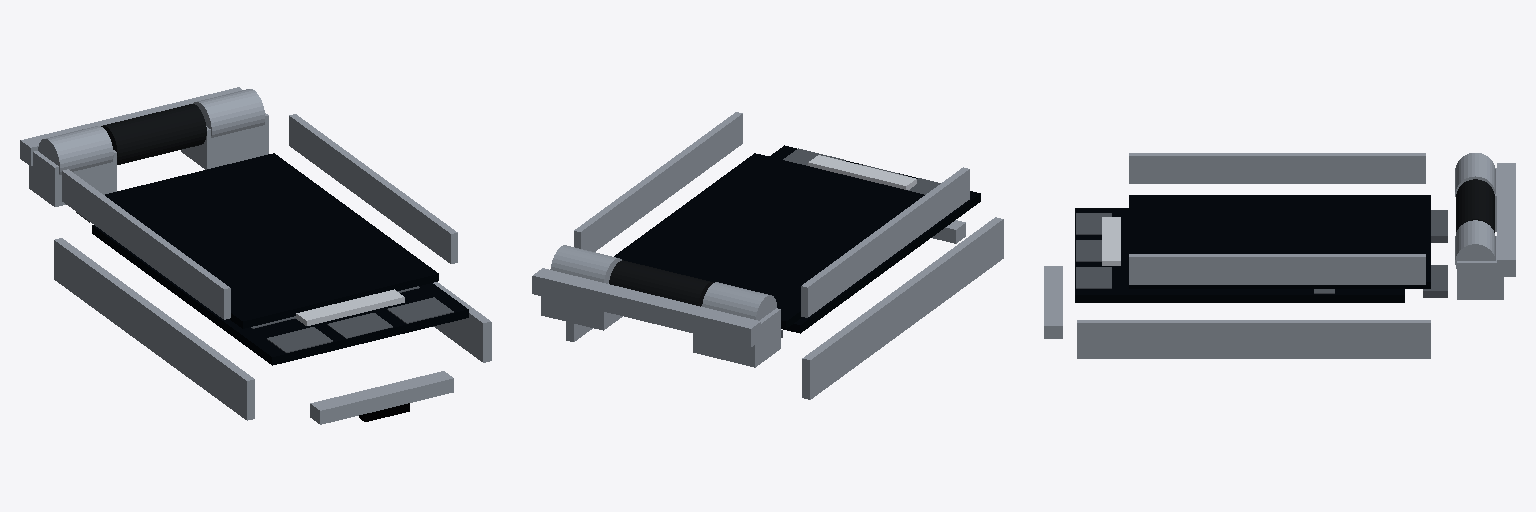
The robot description file, URDF, robot "flip_phone":
<robot name="flip_phone">
  <material name="body_black">
    <color rgba="0.1 0.11 0.12 1" />
  </material>
  <material name="side_metal">
    <color rgba="0.62 0.65 0.69 1" />
  </material>
  <material name="key_gray">
    <color rgba="0.36 0.38 0.41 1" />
  </material>
  <material name="dark_glass">
    <color rgba="0.08 0.11 0.14 0.58" />
  </material>
  <material name="display_black">
    <color rgba="0.03 0.05 0.07 1" />
  </material>
  <material name="accent_silver">
    <color rgba="0.8 0.82 0.85 1" />
  </material>
  <material name="lens_black">
    <color rgba="0.02 0.02 0.03 1" />
  </material>
  <link name="lower_body">
    <inertial>
      <origin xyz="0 0 0.00875" rpy="0 0 0" />
      <mass value="0.085" />
      <inertia ixx="6.74493e-05" ixy="0" ixz="0" iyy="2.35964e-05" iyz="0" izz="8.67071e-05" />
    </inertial>
    <visual name="lower_shell">
      <origin xyz="0 0 0.00875" rpy="0 0 0" />
      <geometry>
        <mesh filename="meshes/lower_body_shell.glb" />
      </geometry>
      <material name="body_black">
        <color rgba="0.1 0.11 0.12 1" />
      </material>
    </visual>
    <visual name="keypad_deck">
      <origin xyz="0 -0.007 0.0158" rpy="0 0 0" />
      <geometry>
        <box size="0.044 0.07 0.0018" />
      </geometry>
      <material name="display_black">
        <color rgba="0.03 0.05 0.07 1" />
      </material>
    </visual>
    <visual name="right_lower_trim">
      <origin xyz="0.0265 -0.004 0.0084" rpy="0 0 0" />
      <geometry>
        <box size="0.0018 0.075 0.0085" />
      </geometry>
      <material name="side_metal">
        <color rgba="0.62 0.65 0.69 1" />
      </material>
    </visual>
    <visual name="left_lower_trim">
      <origin xyz="-0.0265 -0.004 0.0084" rpy="0 0 0" />
      <geometry>
        <box size="0.0018 0.075 0.0085" />
      </geometry>
      <material name="side_metal">
        <color rgba="0.62 0.65 0.69 1" />
      </material>
    </visual>
    <visual name="front_lip">
      <origin xyz="0 -0.0465 0.0047" rpy="0 0 0" />
      <geometry>
        <box size="0.03 0.004 0.003" />
      </geometry>
      <material name="side_metal">
        <color rgba="0.62 0.65 0.69 1" />
      </material>
    </visual>
    <visual name="microphone_slot">
      <origin xyz="0 -0.0474 0.0023" rpy="0 0 0" />
      <geometry>
        <box size="0.01 0.0022 0.0018" />
      </geometry>
      <material name="lens_black">
        <color rgba="0.02 0.02 0.03 1" />
      </material>
    </visual>
    <visual name="nav_ring">
      <origin xyz="0 0.0215 0.016" rpy="0 0 0" />
      <geometry>
        <cylinder radius="0.011" length="0.0017" />
      </geometry>
      <material name="key_gray">
        <color rgba="0.36 0.38 0.41 1" />
      </material>
    </visual>
    <visual name="nav_ring_inner">
      <origin xyz="0 0.0215 0.0161" rpy="0 0 0" />
      <geometry>
        <cylinder radius="0.0072" length="0.0019" />
      </geometry>
      <material name="display_black">
        <color rgba="0.03 0.05 0.07 1" />
      </material>
    </visual>
    <visual name="nav_center">
      <origin xyz="0 0.0215 0.0162" rpy="0 0 0" />
      <geometry>
        <cylinder radius="0.0038" length="0.0017" />
      </geometry>
      <material name="accent_silver">
        <color rgba="0.8 0.82 0.85 1" />
      </material>
    </visual>
    <visual name="softkey_left">
      <origin xyz="-0.0138 0.0345 0.0161" rpy="0 0 0" />
      <geometry>
        <box size="0.013 0.0052 0.0016" />
      </geometry>
      <material name="key_gray">
        <color rgba="0.36 0.38 0.41 1" />
      </material>
    </visual>
    <visual name="softkey_right">
      <origin xyz="0.0138 0.0345 0.0161" rpy="0 0 0" />
      <geometry>
        <box size="0.013 0.0052 0.0016" />
      </geometry>
      <material name="key_gray">
        <color rgba="0.36 0.38 0.41 1" />
      </material>
    </visual>
    <visual name="send_key">
      <origin xyz="-0.0168 0.011 0.016" rpy="0 0 0" />
      <geometry>
        <box size="0.009 0.0045 0.0016" />
      </geometry>
      <material name="key_gray">
        <color rgba="0.36 0.38 0.41 1" />
      </material>
    </visual>
    <visual name="end_key">
      <origin xyz="0.0168 0.011 0.016" rpy="0 0 0" />
      <geometry>
        <box size="0.009 0.0045 0.0016" />
      </geometry>
      <material name="key_gray">
        <color rgba="0.36 0.38 0.41 1" />
      </material>
    </visual>
    <visual name="key_0_0">
      <origin xyz="-0.0135 0.001 0.01605" rpy="0 0 0" />
      <geometry>
        <box size="0.0106 0.0076 0.0015" />
      </geometry>
      <material name="key_gray">
        <color rgba="0.36 0.38 0.41 1" />
      </material>
    </visual>
    <visual name="key_0_1">
      <origin xyz="0 0.001 0.01615" rpy="0 0 0" />
      <geometry>
        <box size="0.0106 0.0076 0.0015" />
      </geometry>
      <material name="key_gray">
        <color rgba="0.36 0.38 0.41 1" />
      </material>
    </visual>
    <visual name="key_0_2">
      <origin xyz="0.0135 0.001 0.01605" rpy="0 0 0" />
      <geometry>
        <box size="0.0106 0.0076 0.0015" />
      </geometry>
      <material name="key_gray">
        <color rgba="0.36 0.38 0.41 1" />
      </material>
    </visual>
    <visual name="key_1_0">
      <origin xyz="-0.0135 -0.012 0.01615" rpy="0 0 0" />
      <geometry>
        <box size="0.0106 0.0076 0.0015" />
      </geometry>
      <material name="key_gray">
        <color rgba="0.36 0.38 0.41 1" />
      </material>
    </visual>
    <visual name="key_1_1">
      <origin xyz="0 -0.012 0.01605" rpy="0 0 0" />
      <geometry>
        <box size="0.0106 0.0076 0.0015" />
      </geometry>
      <material name="key_gray">
        <color rgba="0.36 0.38 0.41 1" />
      </material>
    </visual>
    <visual name="key_1_2">
      <origin xyz="0.0135 -0.012 0.01615" rpy="0 0 0" />
      <geometry>
        <box size="0.0106 0.0076 0.0015" />
      </geometry>
      <material name="key_gray">
        <color rgba="0.36 0.38 0.41 1" />
      </material>
    </visual>
    <visual name="key_2_0">
      <origin xyz="-0.0135 -0.025 0.01605" rpy="0 0 0" />
      <geometry>
        <box size="0.0106 0.0076 0.0015" />
      </geometry>
      <material name="key_gray">
        <color rgba="0.36 0.38 0.41 1" />
      </material>
    </visual>
    <visual name="key_2_1">
      <origin xyz="0 -0.025 0.01615" rpy="0 0 0" />
      <geometry>
        <box size="0.0106 0.0076 0.0015" />
      </geometry>
      <material name="key_gray">
        <color rgba="0.36 0.38 0.41 1" />
      </material>
    </visual>
    <visual name="key_2_2">
      <origin xyz="0.0135 -0.025 0.01605" rpy="0 0 0" />
      <geometry>
        <box size="0.0106 0.0076 0.0015" />
      </geometry>
      <material name="key_gray">
        <color rgba="0.36 0.38 0.41 1" />
      </material>
    </visual>
    <visual name="key_3_0">
      <origin xyz="-0.0135 -0.038 0.01615" rpy="0 0 0" />
      <geometry>
        <box size="0.0106 0.0076 0.0015" />
      </geometry>
      <material name="key_gray">
        <color rgba="0.36 0.38 0.41 1" />
      </material>
    </visual>
    <visual name="key_3_1">
      <origin xyz="0 -0.038 0.01605" rpy="0 0 0" />
      <geometry>
        <box size="0.0106 0.0076 0.0015" />
      </geometry>
      <material name="key_gray">
        <color rgba="0.36 0.38 0.41 1" />
      </material>
    </visual>
    <visual name="key_3_2">
      <origin xyz="0.0135 -0.038 0.01615" rpy="0 0 0" />
      <geometry>
        <box size="0.0106 0.0076 0.0015" />
      </geometry>
      <material name="key_gray">
        <color rgba="0.36 0.38 0.41 1" />
      </material>
    </visual>
    <collision name="lower_body__lower_shell__hull_001">
      <origin xyz="0 0 0.00875" rpy="0 0 0" />
      <geometry>
        <mesh filename="meshes/collision/cache/7e7f34d3edd90ef1a53e088b__hull_001.obj" />
      </geometry>
    </collision>
    <collision name="lower_body__keypad_deck">
      <origin xyz="0 -0.007 0.0158" rpy="0 0 0" />
      <geometry>
        <box size="0.044 0.07 0.0018" />
      </geometry>
    </collision>
    <collision name="lower_body__right_lower_trim">
      <origin xyz="0.0265 -0.004 0.0084" rpy="0 0 0" />
      <geometry>
        <box size="0.0018 0.075 0.0085" />
      </geometry>
    </collision>
    <collision name="lower_body__left_lower_trim">
      <origin xyz="-0.0265 -0.004 0.0084" rpy="0 0 0" />
      <geometry>
        <box size="0.0018 0.075 0.0085" />
      </geometry>
    </collision>
    <collision name="lower_body__front_lip">
      <origin xyz="0 -0.0465 0.0047" rpy="0 0 0" />
      <geometry>
        <box size="0.03 0.004 0.003" />
      </geometry>
    </collision>
    <collision name="lower_body__microphone_slot">
      <origin xyz="0 -0.0474 0.0023" rpy="0 0 0" />
      <geometry>
        <box size="0.01 0.0022 0.0018" />
      </geometry>
    </collision>
    <collision name="lower_body__nav_ring">
      <origin xyz="0 0.0215 0.016" rpy="0 0 0" />
      <geometry>
        <cylinder radius="0.011" length="0.0017" />
      </geometry>
    </collision>
    <collision name="lower_body__nav_ring_inner">
      <origin xyz="0 0.0215 0.0161" rpy="0 0 0" />
      <geometry>
        <cylinder radius="0.0072" length="0.0019" />
      </geometry>
    </collision>
    <collision name="lower_body__nav_center">
      <origin xyz="0 0.0215 0.0162" rpy="0 0 0" />
      <geometry>
        <cylinder radius="0.0038" length="0.0017" />
      </geometry>
    </collision>
    <collision name="lower_body__softkey_left">
      <origin xyz="-0.0138 0.0345 0.0161" rpy="0 0 0" />
      <geometry>
        <box size="0.013 0.0052 0.0016" />
      </geometry>
    </collision>
    <collision name="lower_body__softkey_right">
      <origin xyz="0.0138 0.0345 0.0161" rpy="0 0 0" />
      <geometry>
        <box size="0.013 0.0052 0.0016" />
      </geometry>
    </collision>
    <collision name="lower_body__send_key">
      <origin xyz="-0.0168 0.011 0.016" rpy="0 0 0" />
      <geometry>
        <box size="0.009 0.0045 0.0016" />
      </geometry>
    </collision>
    <collision name="lower_body__end_key">
      <origin xyz="0.0168 0.011 0.016" rpy="0 0 0" />
      <geometry>
        <box size="0.009 0.0045 0.0016" />
      </geometry>
    </collision>
    <collision name="lower_body__key_0_0">
      <origin xyz="-0.0135 0.001 0.01605" rpy="0 0 0" />
      <geometry>
        <box size="0.0106 0.0076 0.0015" />
      </geometry>
    </collision>
    <collision name="lower_body__key_0_1">
      <origin xyz="0 0.001 0.01615" rpy="0 0 0" />
      <geometry>
        <box size="0.0106 0.0076 0.0015" />
      </geometry>
    </collision>
    <collision name="lower_body__key_0_2">
      <origin xyz="0.0135 0.001 0.01605" rpy="0 0 0" />
      <geometry>
        <box size="0.0106 0.0076 0.0015" />
      </geometry>
    </collision>
    <collision name="lower_body__key_1_0">
      <origin xyz="-0.0135 -0.012 0.01615" rpy="0 0 0" />
      <geometry>
        <box size="0.0106 0.0076 0.0015" />
      </geometry>
    </collision>
    <collision name="lower_body__key_1_1">
      <origin xyz="0 -0.012 0.01605" rpy="0 0 0" />
      <geometry>
        <box size="0.0106 0.0076 0.0015" />
      </geometry>
    </collision>
    <collision name="lower_body__key_1_2">
      <origin xyz="0.0135 -0.012 0.01615" rpy="0 0 0" />
      <geometry>
        <box size="0.0106 0.0076 0.0015" />
      </geometry>
    </collision>
    <collision name="lower_body__key_2_0">
      <origin xyz="-0.0135 -0.025 0.01605" rpy="0 0 0" />
      <geometry>
        <box size="0.0106 0.0076 0.0015" />
      </geometry>
    </collision>
    <collision name="lower_body__key_2_1">
      <origin xyz="0 -0.025 0.01615" rpy="0 0 0" />
      <geometry>
        <box size="0.0106 0.0076 0.0015" />
      </geometry>
    </collision>
    <collision name="lower_body__key_2_2">
      <origin xyz="0.0135 -0.025 0.01605" rpy="0 0 0" />
      <geometry>
        <box size="0.0106 0.0076 0.0015" />
      </geometry>
    </collision>
    <collision name="lower_body__key_3_0">
      <origin xyz="-0.0135 -0.038 0.01615" rpy="0 0 0" />
      <geometry>
        <box size="0.0106 0.0076 0.0015" />
      </geometry>
    </collision>
    <collision name="lower_body__key_3_1">
      <origin xyz="0 -0.038 0.01605" rpy="0 0 0" />
      <geometry>
        <box size="0.0106 0.0076 0.0015" />
      </geometry>
    </collision>
    <collision name="lower_body__key_3_2">
      <origin xyz="0.0135 -0.038 0.01615" rpy="0 0 0" />
      <geometry>
        <box size="0.0106 0.0076 0.0015" />
      </geometry>
    </collision>
  </link>
  <link name="hinge_spine">
    <inertial>
      <origin xyz="0 0.002 -0.001" rpy="0 0 0" />
      <mass value="0.014" />
      <inertia ixx="3.36e-07" ixy="0" ixz="0" iyy="2.96917e-06" iyz="0" izz="2.96917e-06" />
    </inertial>
    <visual name="rear_spine_bridge">
      <origin xyz="0 0.0065 -0.0008" rpy="0 0 0" />
      <geometry>
        <box size="0.049 0.004 0.004" />
      </geometry>
      <material name="side_metal">
        <color rgba="0.62 0.65 0.69 1" />
      </material>
    </visual>
    <visual name="left_mount_cheek">
      <origin xyz="-0.017 0.001 -0.004" rpy="0 0 0" />
      <geometry>
        <box size="0.014 0.01 0.0085" />
      </geometry>
      <material name="side_metal">
        <color rgba="0.62 0.65 0.69 1" />
      </material>
    </visual>
    <visual name="right_mount_cheek">
      <origin xyz="0.017 0.001 -0.004" rpy="0 0 0" />
      <geometry>
        <box size="0.014 0.01 0.0085" />
      </geometry>
      <material name="side_metal">
        <color rgba="0.62 0.65 0.69 1" />
      </material>
    </visual>
    <visual name="left_hinge_barrel">
      <origin xyz="-0.017 0 0" rpy="0 1.5708 0" />
      <geometry>
        <cylinder radius="0.0043" length="0.012" />
      </geometry>
      <material name="side_metal">
        <color rgba="0.62 0.65 0.69 1" />
      </material>
    </visual>
    <visual name="right_hinge_barrel">
      <origin xyz="0.017 0 0" rpy="0 1.5708 0" />
      <geometry>
        <cylinder radius="0.0043" length="0.012" />
      </geometry>
      <material name="side_metal">
        <color rgba="0.62 0.65 0.69 1" />
      </material>
    </visual>
    <collision name="hinge_spine__rear_spine_bridge">
      <origin xyz="0 0.0065 -0.0008" rpy="0 0 0" />
      <geometry>
        <box size="0.049 0.004 0.004" />
      </geometry>
    </collision>
    <collision name="hinge_spine__left_mount_cheek">
      <origin xyz="-0.017 0.001 -0.004" rpy="0 0 0" />
      <geometry>
        <box size="0.014 0.01 0.0085" />
      </geometry>
    </collision>
    <collision name="hinge_spine__right_mount_cheek">
      <origin xyz="0.017 0.001 -0.004" rpy="0 0 0" />
      <geometry>
        <box size="0.014 0.01 0.0085" />
      </geometry>
    </collision>
    <collision name="hinge_spine__left_hinge_barrel">
      <origin xyz="-0.017 0 0" rpy="0 1.5708 0" />
      <geometry>
        <cylinder radius="0.0043" length="0.012" />
      </geometry>
    </collision>
    <collision name="hinge_spine__right_hinge_barrel">
      <origin xyz="0.017 0 0" rpy="0 1.5708 0" />
      <geometry>
        <cylinder radius="0.0043" length="0.012" />
      </geometry>
    </collision>
  </link>
  <link name="upper_display">
    <inertial>
      <origin xyz="0 -0.0415 -0.0015" rpy="0 0 0" />
      <mass value="0.055" />
      <inertia ixx="3.21292e-05" ixy="0" ixz="0" iyy="1.31874e-05" iyz="0" izz="4.42074e-05" />
    </inertial>
    <visual name="upper_shell">
      <origin xyz="0 -0.0415 -0.0015" rpy="0 0 0" />
      <geometry>
        <mesh filename="meshes/upper_display_shell.glb" />
      </geometry>
      <material name="body_black">
        <color rgba="0.1 0.11 0.12 1" />
      </material>
    </visual>
    <visual name="center_hinge_barrel">
      <origin xyz="0 0 0" rpy="0 1.5708 0" />
      <geometry>
        <cylinder radius="0.0041" length="0.02" />
      </geometry>
      <material name="body_black">
        <color rgba="0.1 0.11 0.12 1" />
      </material>
    </visual>
    <visual name="display_bezel">
      <origin xyz="0 -0.0415 -0.0059" rpy="0 0 0" />
      <geometry>
        <box size="0.044 0.064 0.0016" />
      </geometry>
      <material name="display_black">
        <color rgba="0.03 0.05 0.07 1" />
      </material>
    </visual>
    <visual name="display_glass">
      <origin xyz="0 -0.043 -0.0065" rpy="0 0 0" />
      <geometry>
        <box size="0.0368 0.0485 0.001" />
      </geometry>
      <material name="dark_glass">
        <color rgba="0.08 0.11 0.14 0.58" />
      </material>
    </visual>
    <visual name="earpiece_slot">
      <origin xyz="0 -0.0145 -0.0062" rpy="0 0 0" />
      <geometry>
        <box size="0.014 0.003 0.0011" />
      </geometry>
      <material name="lens_black">
        <color rgba="0.02 0.02 0.03 1" />
      </material>
    </visual>
    <visual name="camera_lens">
      <origin xyz="0.0162 -0.0148 -0.0062" rpy="0 0 0" />
      <geometry>
        <cylinder radius="0.0024" length="0.0011" />
      </geometry>
      <material name="lens_black">
        <color rgba="0.02 0.02 0.03 1" />
      </material>
    </visual>
    <visual name="right_upper_trim">
      <origin xyz="0.02545 -0.042 -0.0005" rpy="0 0 0" />
      <geometry>
        <box size="0.0015 0.063 0.0065" />
      </geometry>
      <material name="side_metal">
        <color rgba="0.62 0.65 0.69 1" />
      </material>
    </visual>
    <visual name="left_upper_trim">
      <origin xyz="-0.02545 -0.042 -0.0005" rpy="0 0 0" />
      <geometry>
        <box size="0.0015 0.063 0.0065" />
      </geometry>
      <material name="side_metal">
        <color rgba="0.62 0.65 0.69 1" />
      </material>
    </visual>
    <visual name="lower_display_chin">
      <origin xyz="0 -0.0772 -0.0058" rpy="0 0 0" />
      <geometry>
        <box size="0.022 0.004 0.0012" />
      </geometry>
      <material name="accent_silver">
        <color rgba="0.8 0.82 0.85 1" />
      </material>
    </visual>
    <collision name="upper_display__upper_shell__hull_001">
      <origin xyz="0 -0.0415 -0.0015" rpy="0 0 0" />
      <geometry>
        <mesh filename="meshes/collision/cache/e0a1f8fc1c2d96870e954edb__hull_001.obj" />
      </geometry>
    </collision>
    <collision name="upper_display__center_hinge_barrel">
      <origin xyz="0 0 0" rpy="0 1.5708 0" />
      <geometry>
        <cylinder radius="0.0041" length="0.02" />
      </geometry>
    </collision>
    <collision name="upper_display__display_bezel">
      <origin xyz="0 -0.0415 -0.0059" rpy="0 0 0" />
      <geometry>
        <box size="0.044 0.064 0.0016" />
      </geometry>
    </collision>
    <collision name="upper_display__display_glass">
      <origin xyz="0 -0.043 -0.0065" rpy="0 0 0" />
      <geometry>
        <box size="0.0368 0.0485 0.001" />
      </geometry>
    </collision>
    <collision name="upper_display__earpiece_slot">
      <origin xyz="0 -0.0145 -0.0062" rpy="0 0 0" />
      <geometry>
        <box size="0.014 0.003 0.0011" />
      </geometry>
    </collision>
    <collision name="upper_display__camera_lens">
      <origin xyz="0.0162 -0.0148 -0.0062" rpy="0 0 0" />
      <geometry>
        <cylinder radius="0.0024" length="0.0011" />
      </geometry>
    </collision>
    <collision name="upper_display__right_upper_trim">
      <origin xyz="0.02545 -0.042 -0.0005" rpy="0 0 0" />
      <geometry>
        <box size="0.0015 0.063 0.0065" />
      </geometry>
    </collision>
    <collision name="upper_display__left_upper_trim">
      <origin xyz="-0.02545 -0.042 -0.0005" rpy="0 0 0" />
      <geometry>
        <box size="0.0015 0.063 0.0065" />
      </geometry>
    </collision>
    <collision name="upper_display__lower_display_chin">
      <origin xyz="0 -0.0772 -0.0058" rpy="0 0 0" />
      <geometry>
        <box size="0.022 0.004 0.0012" />
      </geometry>
    </collision>
  </link>
  <joint name="body_to_hinge_spine" type="fixed">
    <origin xyz="0 0.043 0.0248" rpy="0 0 0" />
    <parent link="lower_body" />
    <child link="hinge_spine" />
  </joint>
  <joint name="clamshell_hinge" type="revolute">
    <parent link="hinge_spine" />
    <child link="upper_display" />
    <axis xyz="-1 0 0" />
    <limit effort="4" velocity="3.2" lower="0" upper="2.35" />
  </joint>
</robot>

--- What the picture shows (computed from the rendered views, not written in the file) ---
The picture shows the robot from 3 angles, left to right: view 1: azimuth 30°, elevation 25°; view 2: azimuth 150°, elevation 25°; view 3: azimuth 270°, elevation 25°; orthographic projection.
Robot: flip_phone — 3 links, 2 joints (1 revolute, 1 fixed); root link lower_body; default pose: all joints at 0.
Links seen in each view (by area): view 1: upper_display, lower_body, hinge_spine; view 2: upper_display, hinge_spine, lower_body; view 3: upper_display, lower_body, hinge_spine.
Link boxes in pixels (box(x1,y1,x2,y2)): upper_display: box(62, 104, 457, 328); lower_body: box(54, 212, 491, 424); hinge_spine: box(20, 87, 268, 206); upper_display: box(574, 112, 969, 328); hinge_spine: box(532, 245, 780, 367); lower_body: box(566, 145, 1003, 399); upper_display: box(1102, 153, 1494, 288); lower_body: box(1044, 208, 1447, 358); hinge_spine: box(1455, 153, 1515, 299).
Size in the robot's own frame: 0.0548 by 0.1 by 0.0277 metres.
0 mesh visuals loaded from 2 distinct referenced files (none loaded); not drawn: 2 (reference not matched to a file when rendering).
